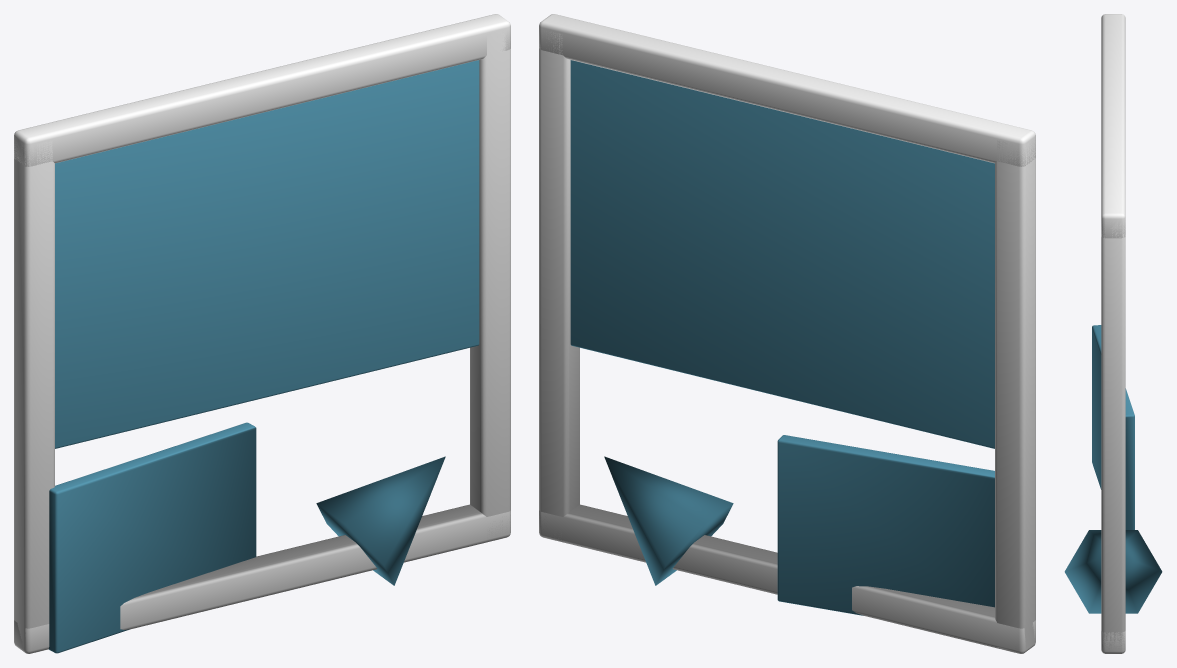
The model's file is broken-glass-pane.obj.
3 renders of one model, left to right at view 1: azimuth 30°, elevation 25°; view 2: azimuth 150°, elevation 25°; view 3: azimuth 270°, elevation 25°, orthographic. The views are drawn at different scales.
Visible parts, largest first — view 1: broken-glass-pane; view 2: broken-glass-pane; view 3: broken-glass-pane.
Boxes of the visible parts, bbox=[...] form: broken-glass-pane: bbox=[14, 14, 510, 653]; broken-glass-pane: bbox=[539, 14, 1035, 653]; broken-glass-pane: bbox=[1064, 14, 1162, 653].
Bounding box in the file's own units: 0.88 × 0.9137 × 0.18.
